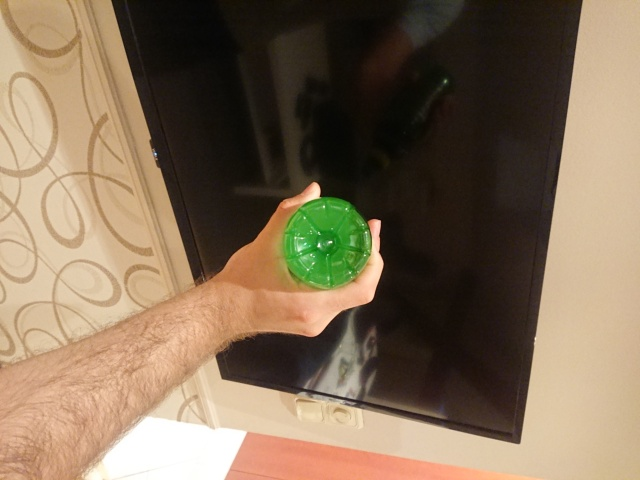Vindi Iso Sport Lemon-Grapefruit 500mL: (279, 194, 375, 293)
